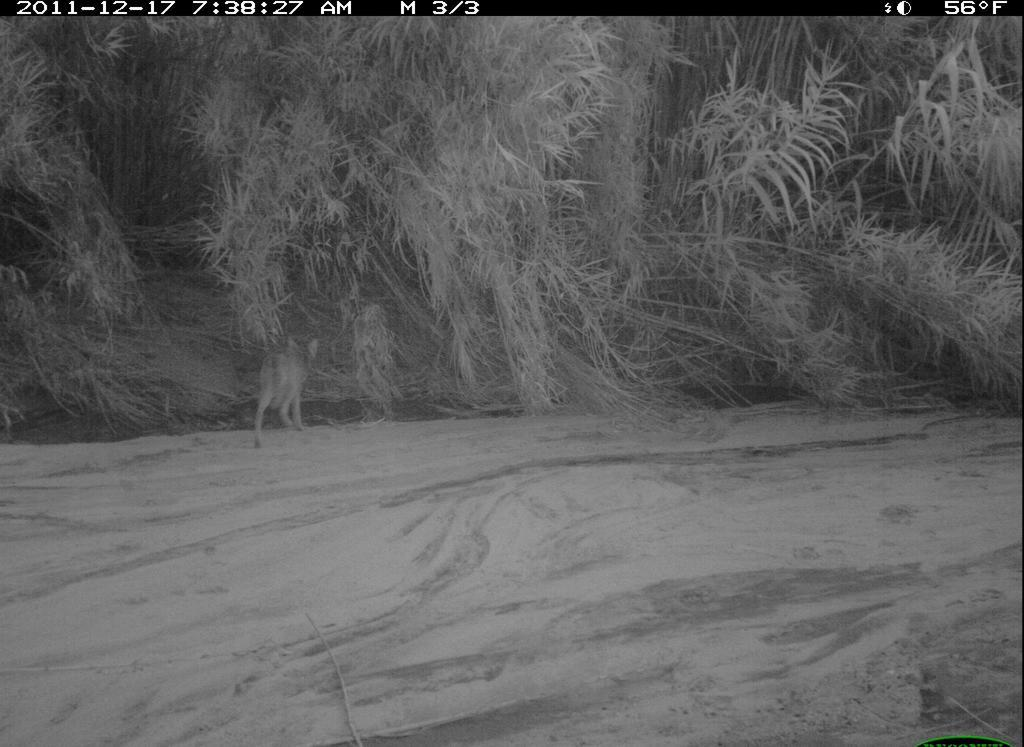coyote: (245, 326, 333, 458)
